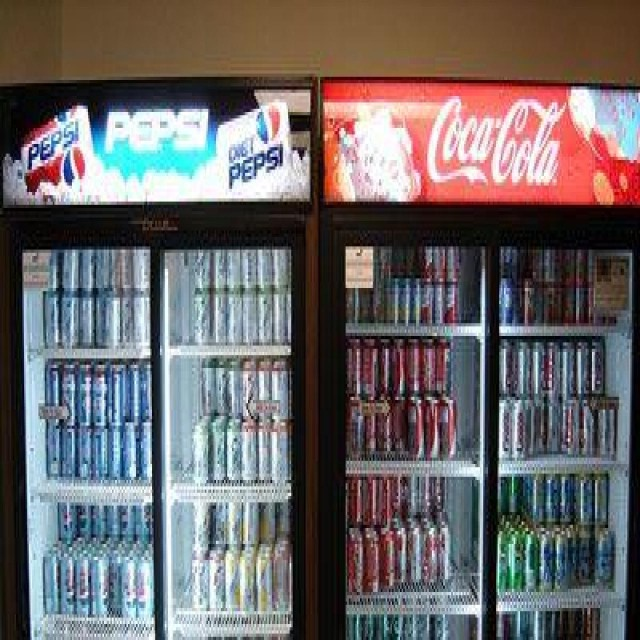pepsi: (254, 100, 282, 146), (61, 144, 88, 189)
